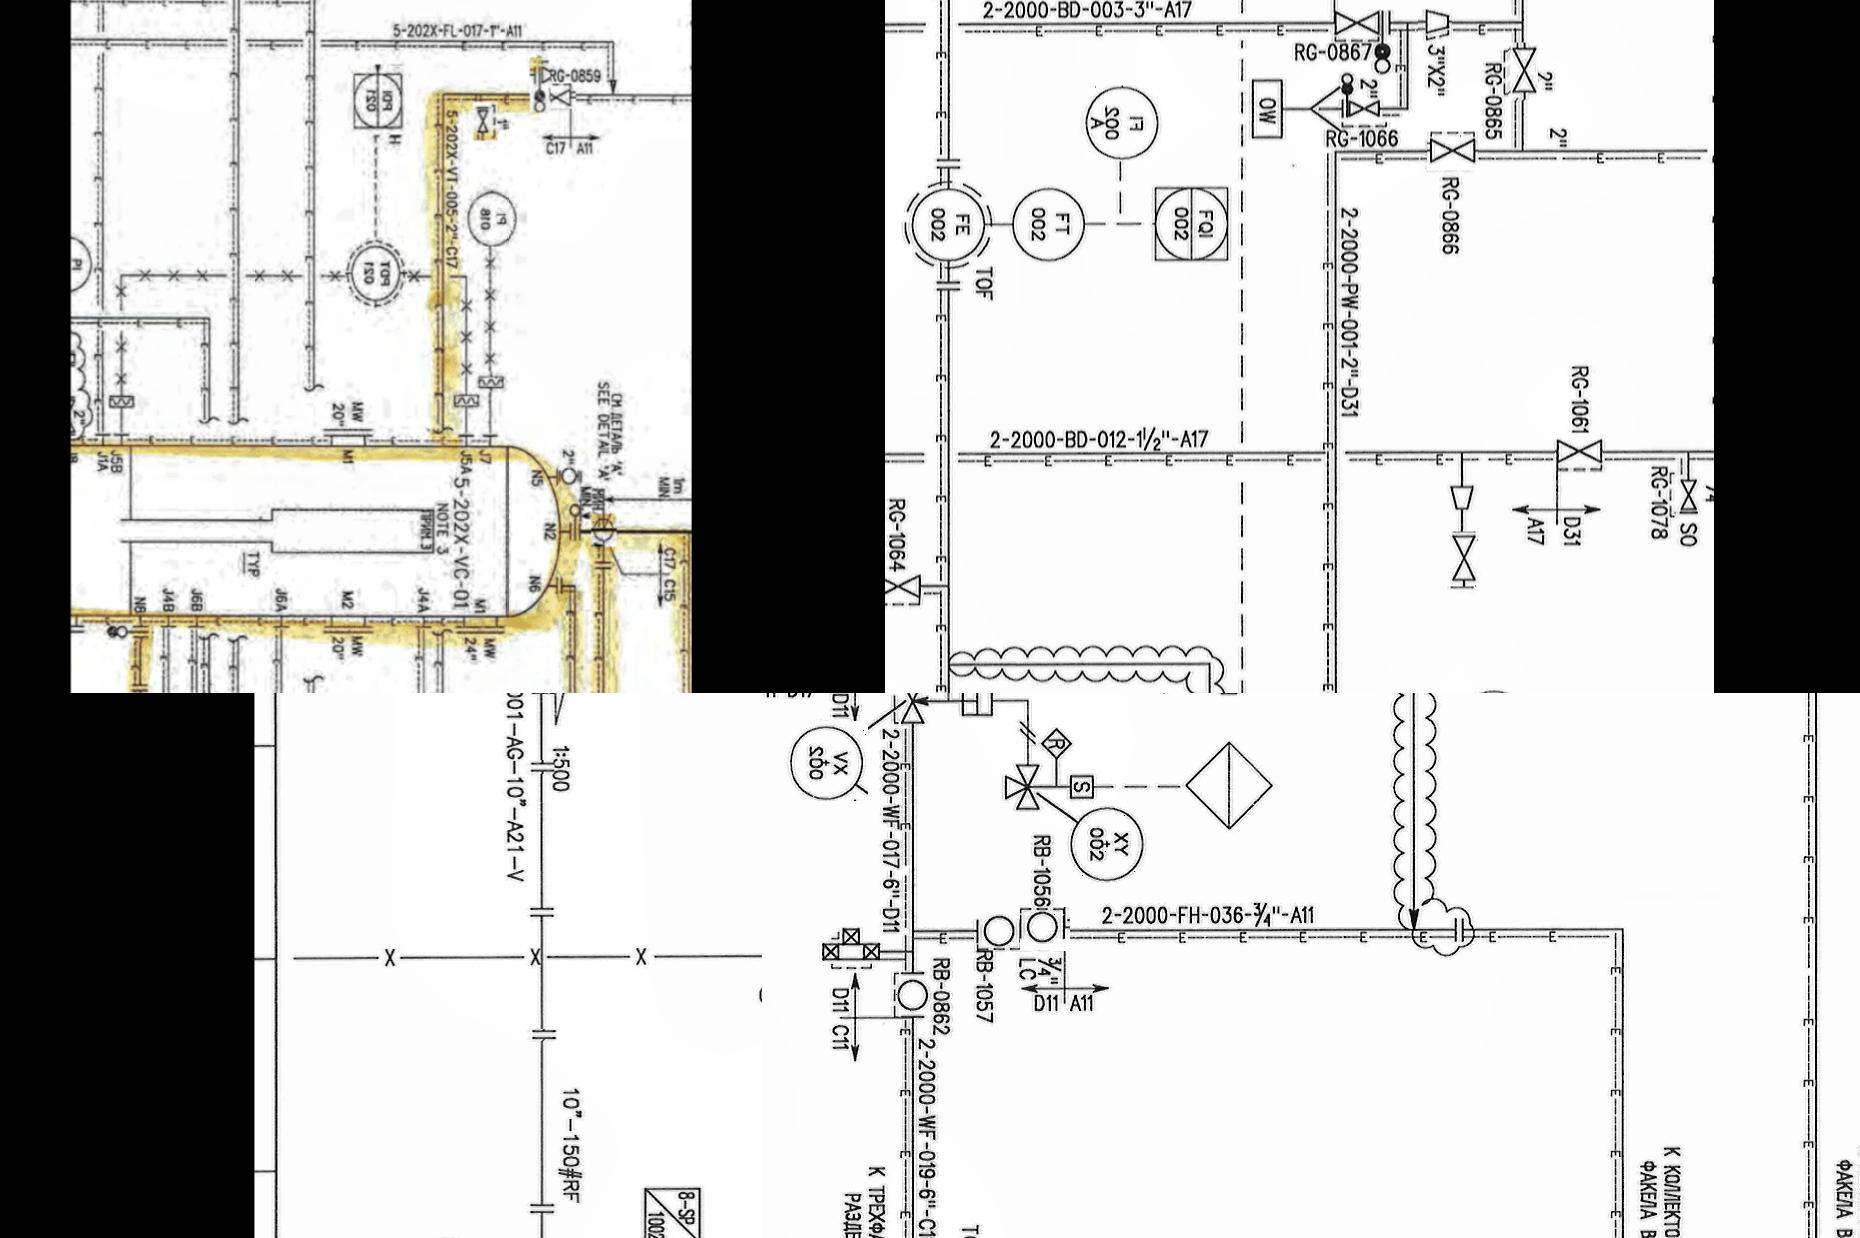2 WAY VALVE: (817, 926, 882, 967)
3 WAY GENERAL VALVE: (1000, 759, 1041, 817)
BLIND SPADE OPEN: (564, 500, 583, 550)
CONCENTRIC REDUCER: (1416, 3, 1451, 43), (1445, 477, 1477, 513)
DCS ACCESSIBLE: (1146, 182, 1235, 267), (344, 65, 410, 137)
DIAPHRAGM SEAL: (448, 391, 481, 415), (104, 394, 142, 413), (473, 370, 509, 391)
END FLANGED: (931, 152, 965, 174), (931, 275, 962, 293), (528, 760, 554, 775), (528, 1029, 557, 1042), (529, 905, 554, 919), (529, 1202, 557, 1215)
FIELD INSTRUMENT: (902, 180, 994, 271), (1067, 803, 1148, 888), (1007, 184, 1092, 265), (784, 721, 866, 801), (1081, 84, 1161, 160), (345, 238, 408, 314), (462, 191, 515, 246), (1018, 906, 1070, 951), (977, 911, 1018, 958), (891, 971, 931, 1017), (590, 514, 616, 549), (558, 468, 578, 488)
GATE VALVE: (1425, 130, 1477, 170), (1334, 1, 1379, 44), (1445, 531, 1480, 586), (1555, 432, 1602, 471), (1508, 43, 1537, 101), (884, 572, 923, 602), (470, 101, 496, 140), (1347, 95, 1386, 120), (540, 83, 575, 108), (1678, 473, 1698, 513)
HARDWIRED INTERLOCK FIELD: (1039, 723, 1075, 764)
HARDWIRED INTERLOCK PRIMARY.: (1182, 736, 1282, 835)
PISTON ACTUATED VALVE: (893, 694, 996, 727)
SPECIAL PIPING ITEM: (638, 1181, 708, 1238)
SPECTACLE BLIND CLOSED: (1369, 6, 1400, 76), (1339, 66, 1354, 133)
SPECTACLE BLIND OPEN: (529, 57, 550, 112), (104, 622, 152, 641)
SPEED FLOW METER: (1064, 772, 1096, 801)
TUNDISH OPEN: (1282, 80, 1342, 141)
